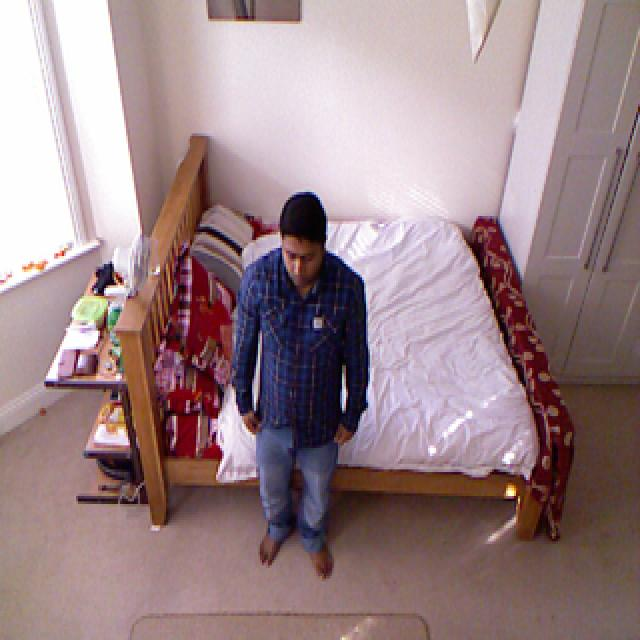standing: (232, 182, 368, 584)
